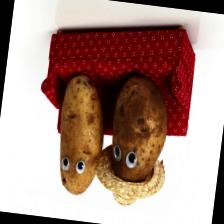potato: (102, 70, 172, 192), (48, 70, 110, 197)
